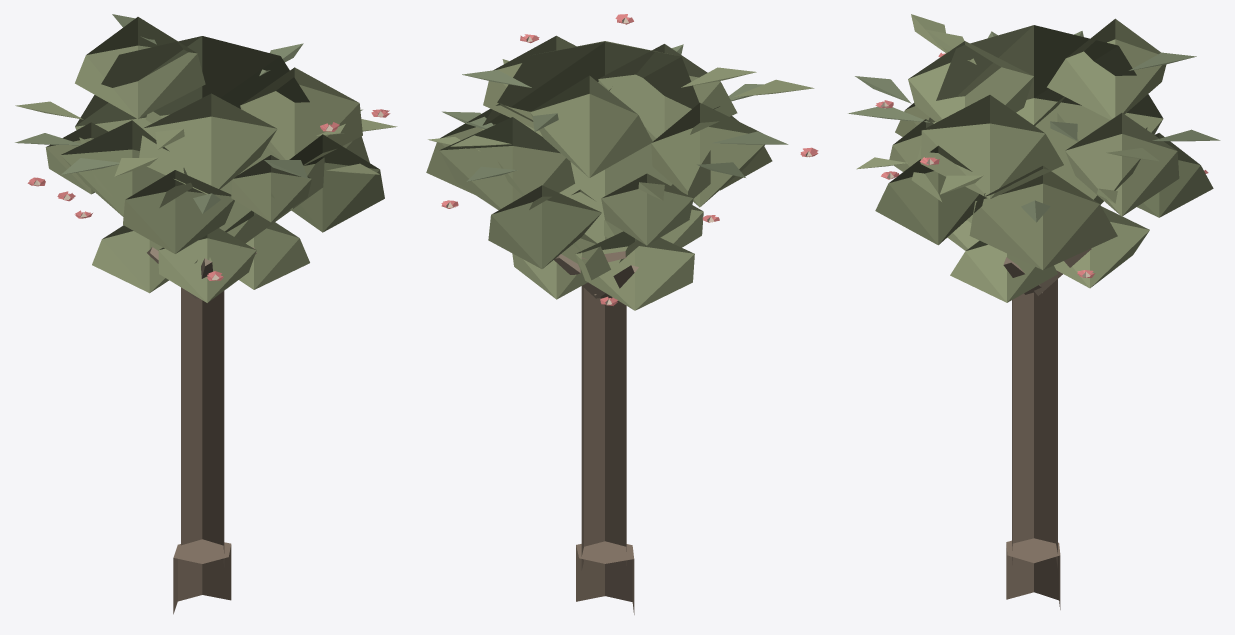
File: shu.mumian@flowering__winter.glb
3 renders of one model, left to right at view 1: azimuth 30°, elevation 25°; view 2: azimuth 150°, elevation 25°; view 3: azimuth 270°, elevation 25°, orthographic.
Visible parts, largest first — view 1: shu.mumian@flowering__winter; view 2: shu.mumian@flowering__winter; view 3: shu.mumian@flowering__winter.
Part boxes in pixels (box(x1,y1,x2,y2)): shu.mumian@flowering__winter: box(15, 14, 397, 614); shu.mumian@flowering__winter: box(426, 14, 818, 614); shu.mumian@flowering__winter: box(848, 14, 1220, 609).
Bounding box in the file's own units: 18.53 × 30.34 × 17.84.
